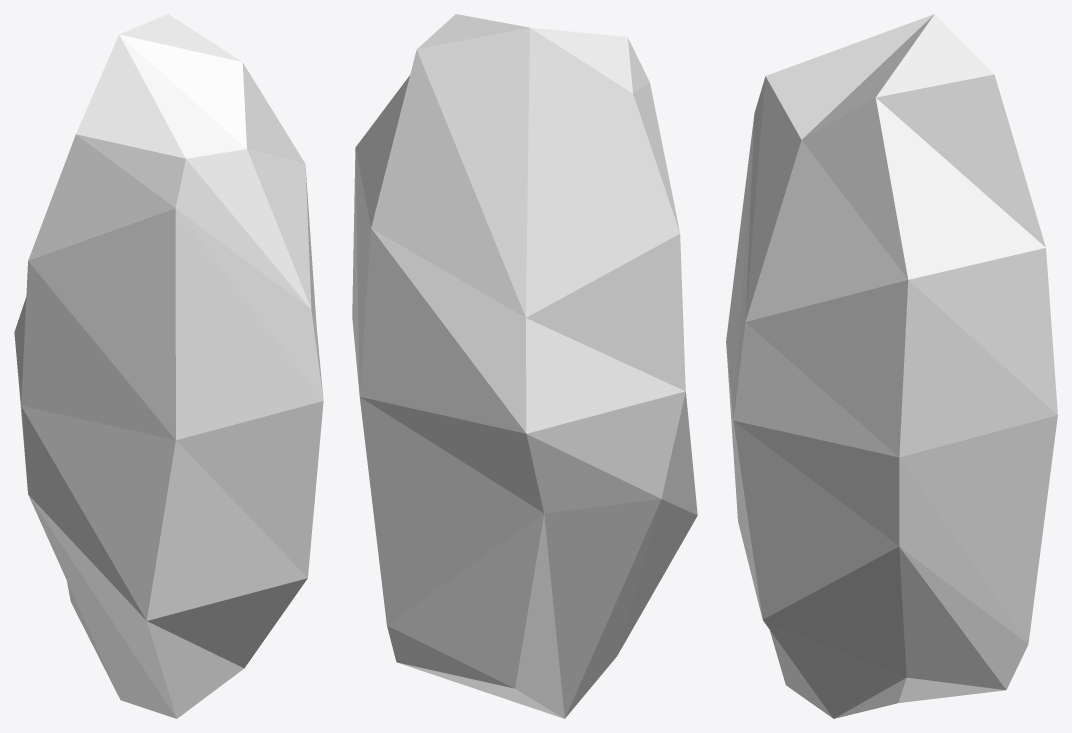
Rendered from Rock_White_4.fbx.
The picture shows the model from 3 angles, left to right: view 1: azimuth 30°, elevation 25°; view 2: azimuth 150°, elevation 25°; view 3: azimuth 270°, elevation 25°; orthographic projection. The views are drawn at different scales.
Visible parts, largest first — view 1: Rock_White_4; view 2: Rock_White_4; view 3: Rock_White_4.
Boxes of the visible parts, x1,y1,x2,y2 form: Rock_White_4: (14, 14, 323, 718); Rock_White_4: (352, 14, 697, 718); Rock_White_4: (726, 14, 1057, 718).
Size of the model in its own units: 2 by 4.1 by 1.77.
